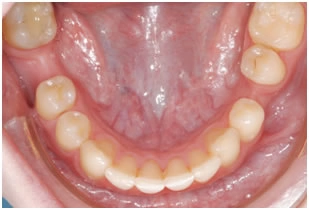LL1BC_healthy: (232, 98, 263, 139)
LL1M_healthy: (240, 48, 282, 83)
LL2BC_decay: (241, 75, 270, 105)
LL2M_healthy: (250, 1, 303, 47)
LLCI_healthy: (166, 156, 192, 190)
LLC_healthy: (205, 127, 239, 161)
LLLI_healthy: (187, 150, 220, 180)
LR1BC_healthy: (56, 109, 88, 146)
LR2BC_healthy: (40, 76, 76, 117)
LR2M_healthy: (11, 3, 57, 45)
LRCI_healthy: (136, 156, 166, 193)
LRC_healthy: (80, 138, 110, 176)
LRLI_healthy: (111, 157, 137, 191)
